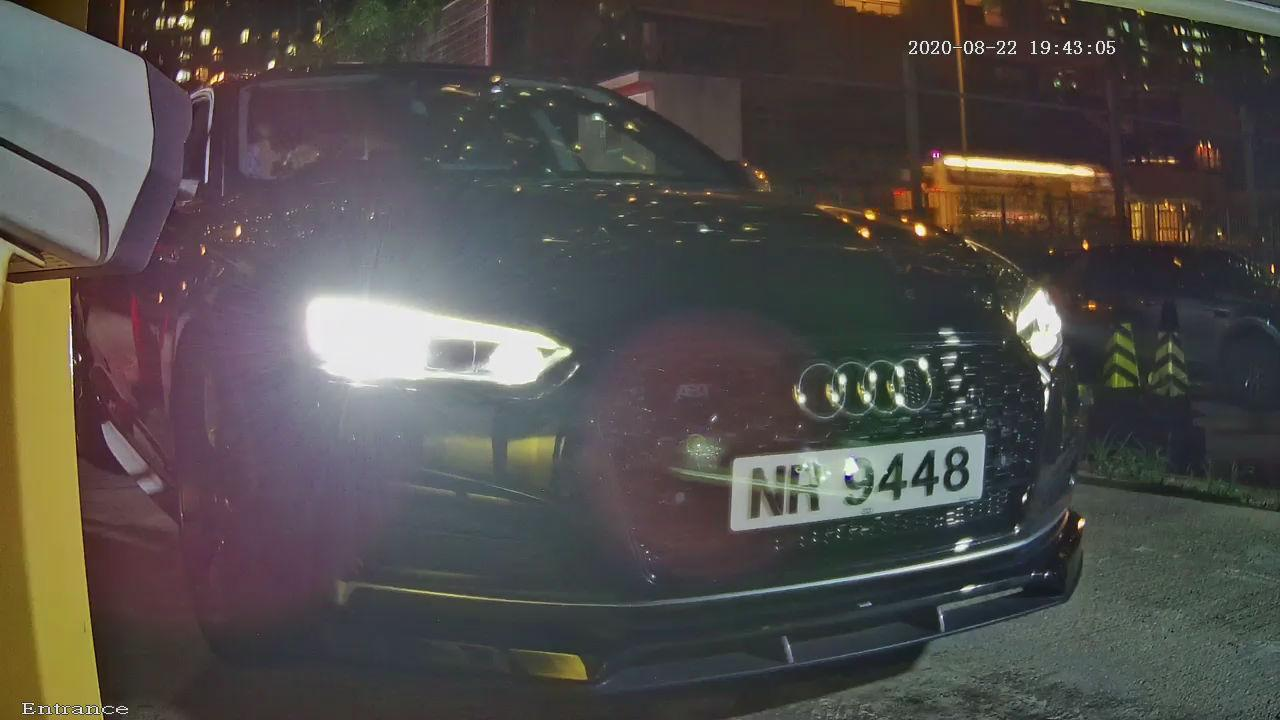Car: (12, 13, 1201, 708)
License Plate: (662, 393, 1064, 581)
